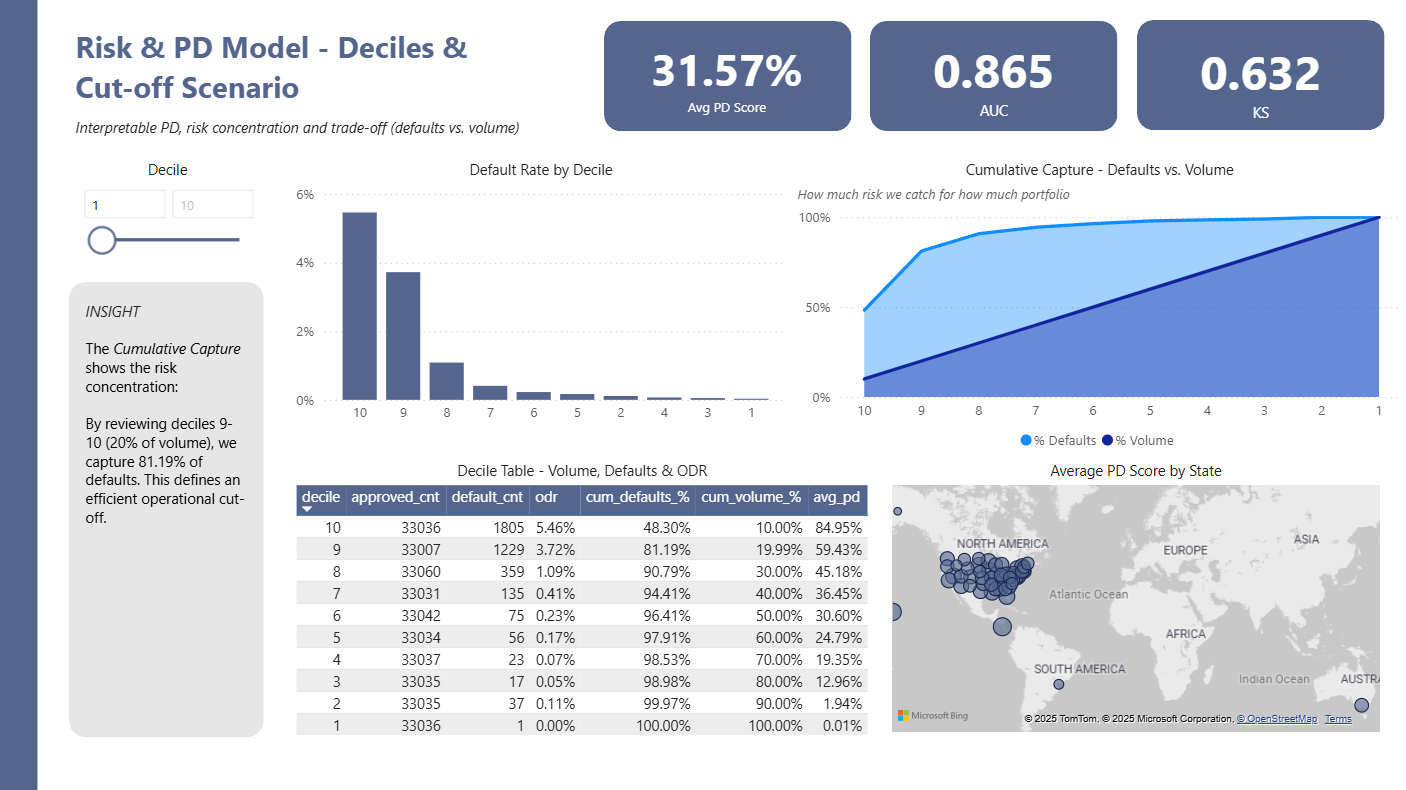

The page's visual inventory and layout, read from the dashboard file:
{"tool":"powerbi","page":{"name":"Risk (PD model)","canvas":[1280,720],"ordinal":1},"visuals":[{"type":"shape","box":[0,0,35.5,720],"z":0},{"type":"shape","box":[549.8,21.3,225.2,100.2],"z":1000},{"type":"card","fields":{"Values":["Avg(decile_summary.avg_pd)"]},"box":[549.5,21.7,225.4,100.5],"z":2000},{"type":"tableEx","title":"Decile Table - Volume, Defaults & ODR","fields":{"Values":["decile_summary.decile","decile_summary.approved_cnt","decile_summary.default_cnt","decile_summary.odr","decile_summary.cum_defaults_%","decile_summary.cum_volume_%","decile_summary.avg_pd"]},"box":[264.3,420.9,531.4,273.4],"z":3000},{"type":"columnChart","title":"Default Rate by Decile","fields":{"Category":["decile_summary.decile"],"Y":["Avg(decile_summary.odr)"]},"box":[264.3,147.6,456.2,248],"z":4000},{"type":"shape","box":[792.2,21.3,225,100],"z":5000},{"type":"areaChart","title":"Cumulative Capture - Defaults vs. Volume","fields":{"Category":["decile_summary.decile"],"Y":["Avg(decile_summary.cum_defaults_%)","Avg(decile_summary.cum_volume_%)"]},"box":[720.6,147.6,559.4,273.4],"z":6000},{"type":"textbox","box":[792.1,30.8,225.4,91.4],"z":7000},{"type":"shape","box":[1034.4,20.4,225.2,100.2],"z":8000},{"type":"textbox","box":[1034.7,32.6,225.4,88.7],"z":9000},{"type":"textbox","box":[64.3,20.8,414.6,89.6],"z":10000},{"type":"textbox","box":[64.3,103.2,446.3,37.1],"z":11000},{"type":"map","title":"Average PD Score by State","fields":{"Category":["fact_loans.project_state"],"Size":["Avg(pd_scores.pd_score)"]},"box":[807.5,420.9,452.6,250.7],"z":12000},{"type":"slicer","title":"Decile","fields":{"Values":["decile_summary.decile"]},"box":[64.3,147.6,177.4,109.5],"z":13000},{"type":"shape","box":[64,258,177,414],"z":14000},{"type":"textbox","box":[73.3,271.1,157.8,387.8],"z":15000}]}

Visuals, with their boxes in screenshot pixels (x1, y1, x2, y2), scaled from the page's 1280x720 canvas onto the 1406x790 screenshot:
shape: [0,0,39,789]
shape: [604,23,851,133]
card - Avg(decile_summary.avg_pd): [604,24,851,134]
"Decile Table - Volume, Defaults & ODR" tableEx: [290,462,874,762]
"Default Rate by Decile" columnChart: [290,162,791,434]
shape: [870,23,1117,133]
"Cumulative Capture - Defaults vs. Volume" areaChart: [792,162,1405,462]
textbox: [870,34,1118,134]
shape: [1136,22,1384,132]
textbox: [1137,36,1384,133]
textbox: [71,23,526,121]
textbox: [71,113,561,154]
"Average PD Score by State" map: [887,462,1384,737]
"Decile" slicer: [71,162,265,282]
shape: [70,283,265,737]
textbox: [81,297,254,723]
